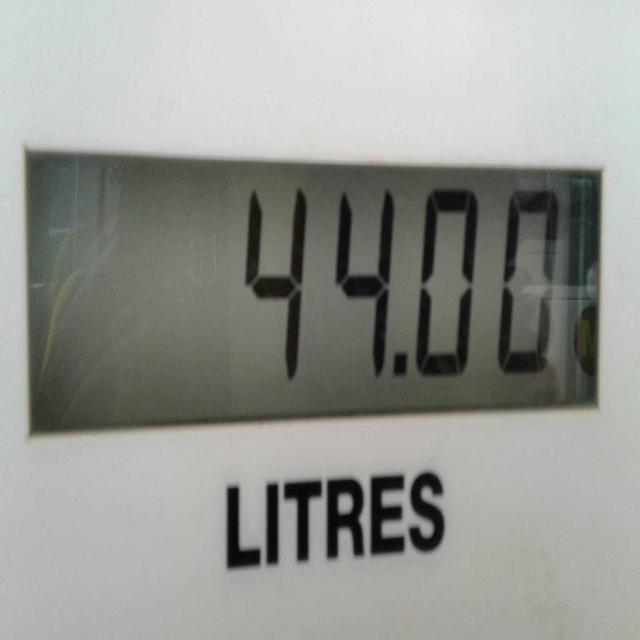.: (395, 350, 409, 378)
0: (413, 192, 479, 374), (498, 192, 554, 370)
4: (248, 192, 306, 381), (336, 192, 390, 376)
